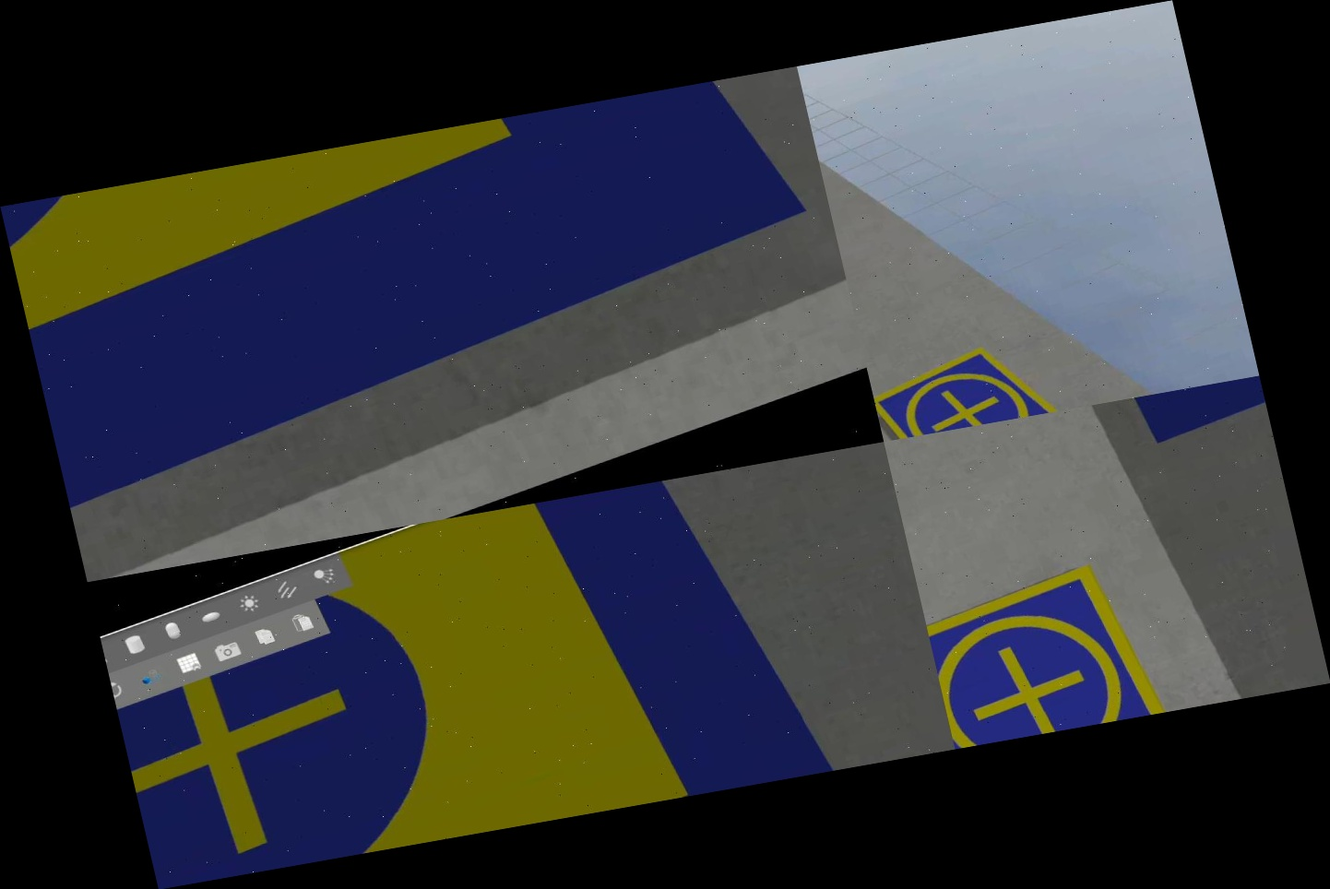large_base: (0, 68, 863, 550), (88, 456, 870, 889)
small_base: (919, 552, 1175, 748), (865, 327, 1075, 442)
